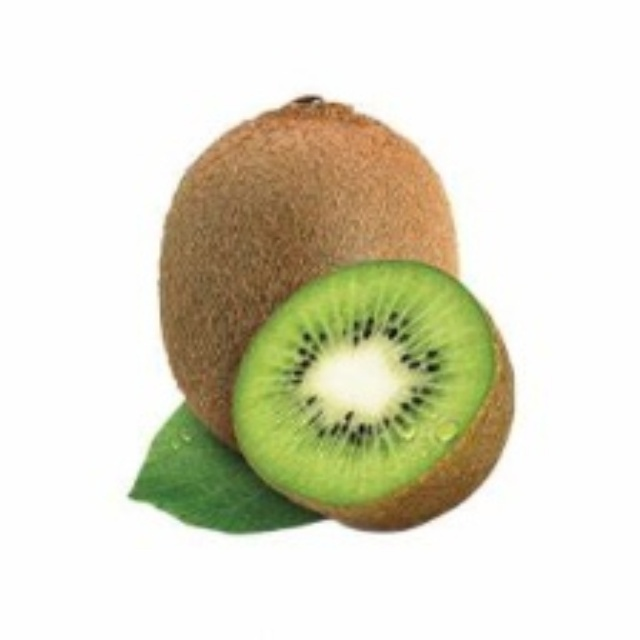kiwi: (154, 97, 451, 442), (222, 261, 525, 535)
